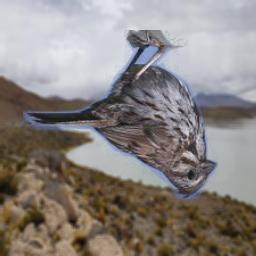Sparrow: (23, 30, 218, 202)
